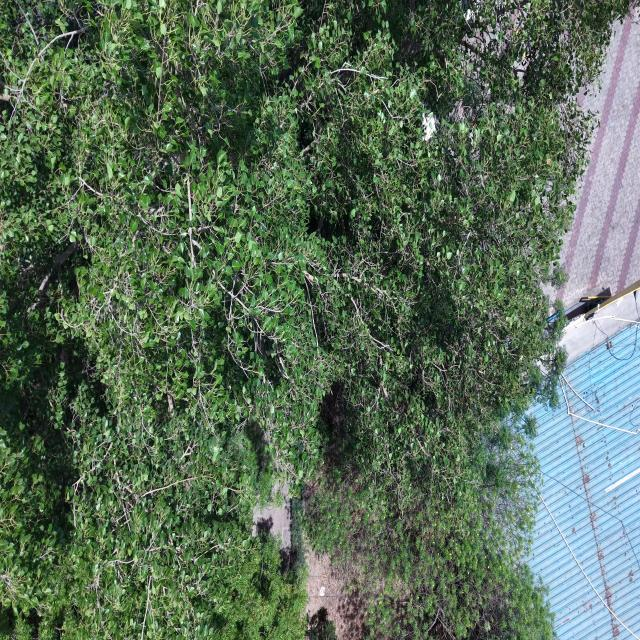DRY_AREA: (547, 15, 639, 307), (549, 11, 639, 307), (305, 547, 409, 639), (305, 547, 366, 639), (306, 550, 366, 639), (253, 484, 291, 551)
ROOFTOP_BUILDING: (528, 13, 639, 639), (528, 292, 639, 639)
VEGETATION_TREE: (0, 0, 629, 639)
